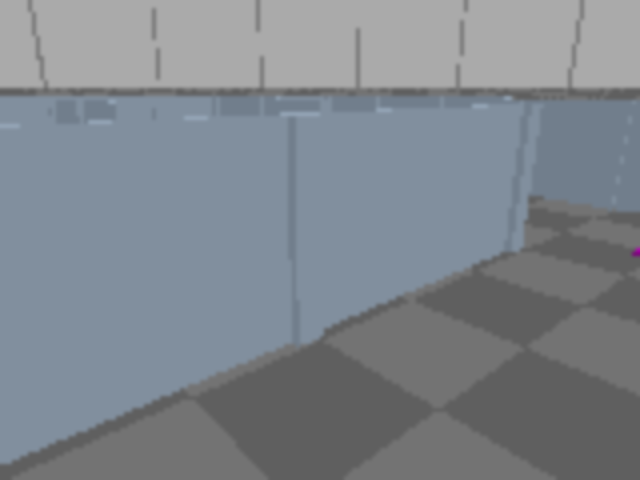goal_zone: (632, 231, 638, 288)
